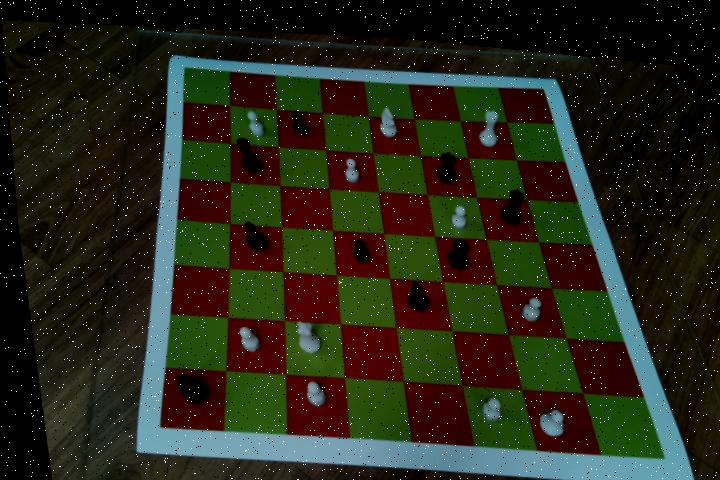chessboard-detect: (151, 62, 658, 444)
